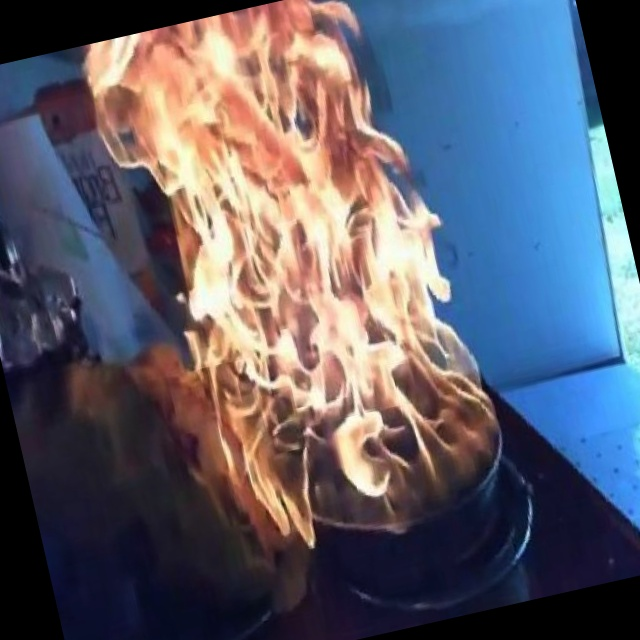fire: (117, 3, 505, 594)
